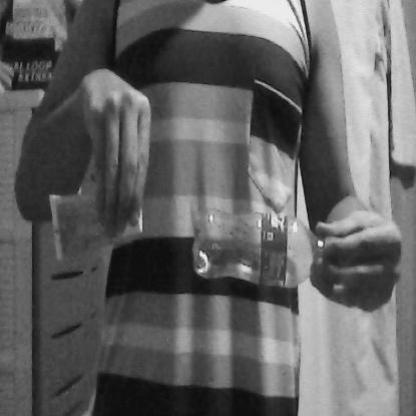Plastic Bottle: (184, 195, 344, 305)
